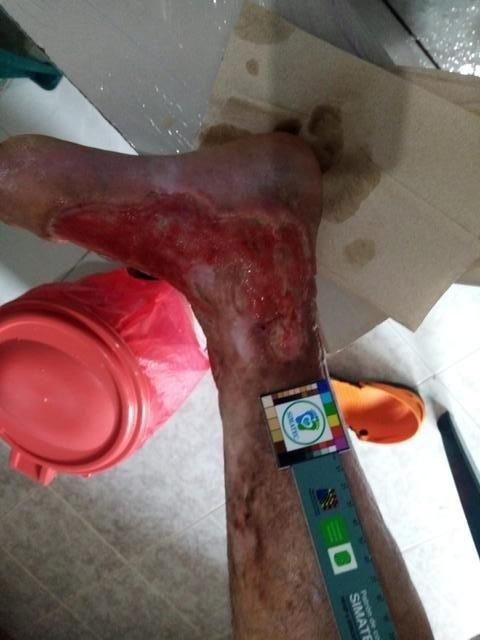wound: (53, 194, 309, 358)
